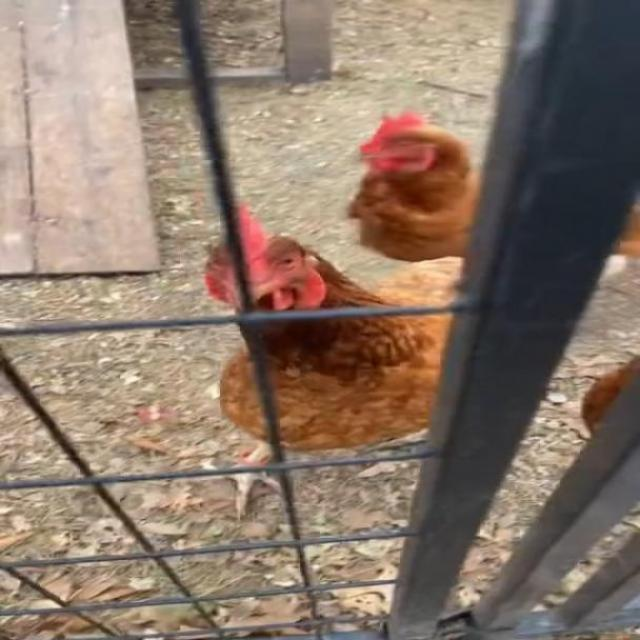Chicken: (204, 203, 465, 517), (345, 113, 640, 265), (585, 354, 640, 430)
